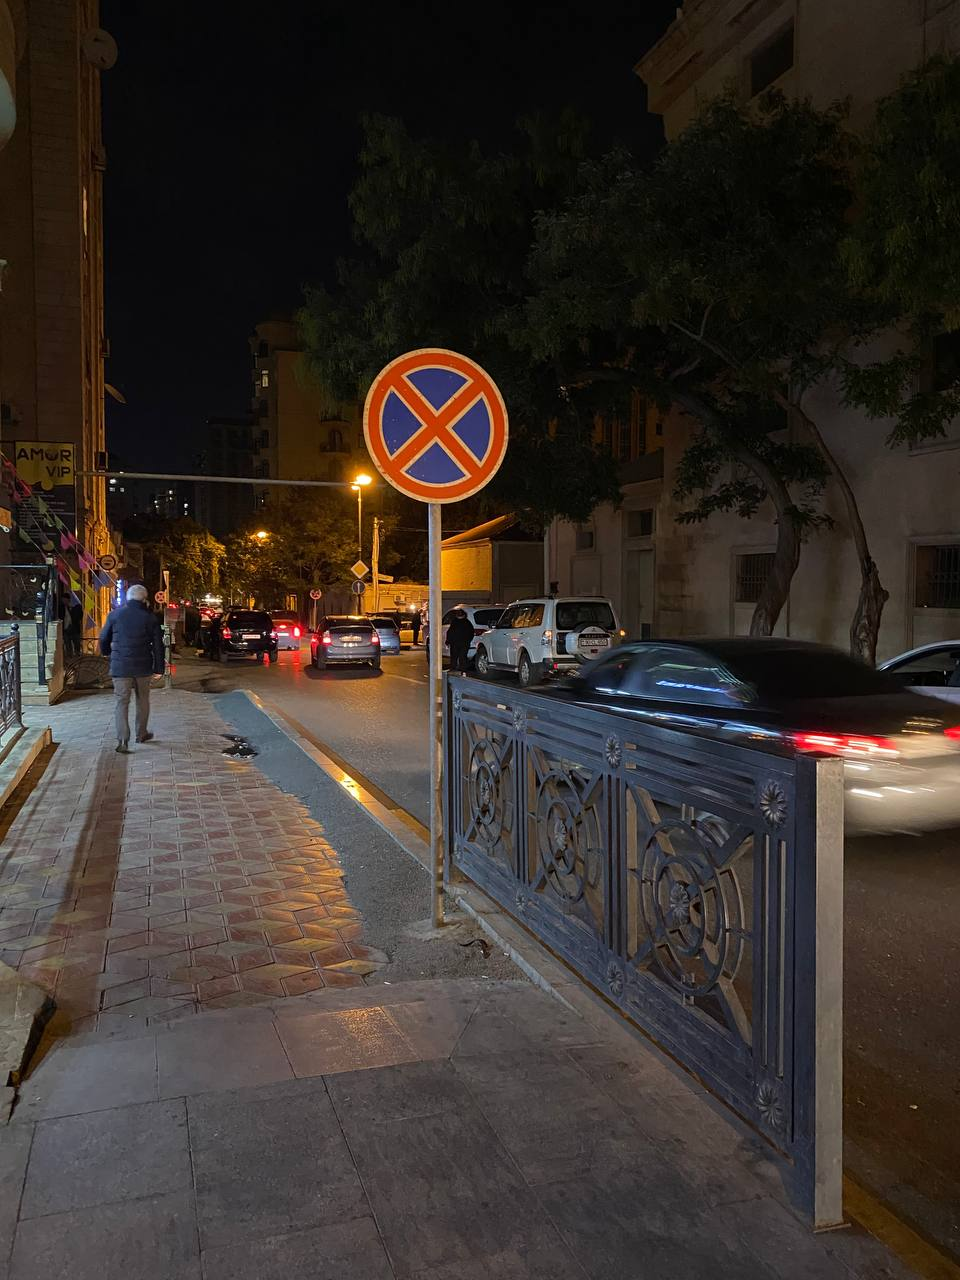No Parking: (363, 347, 508, 504)
